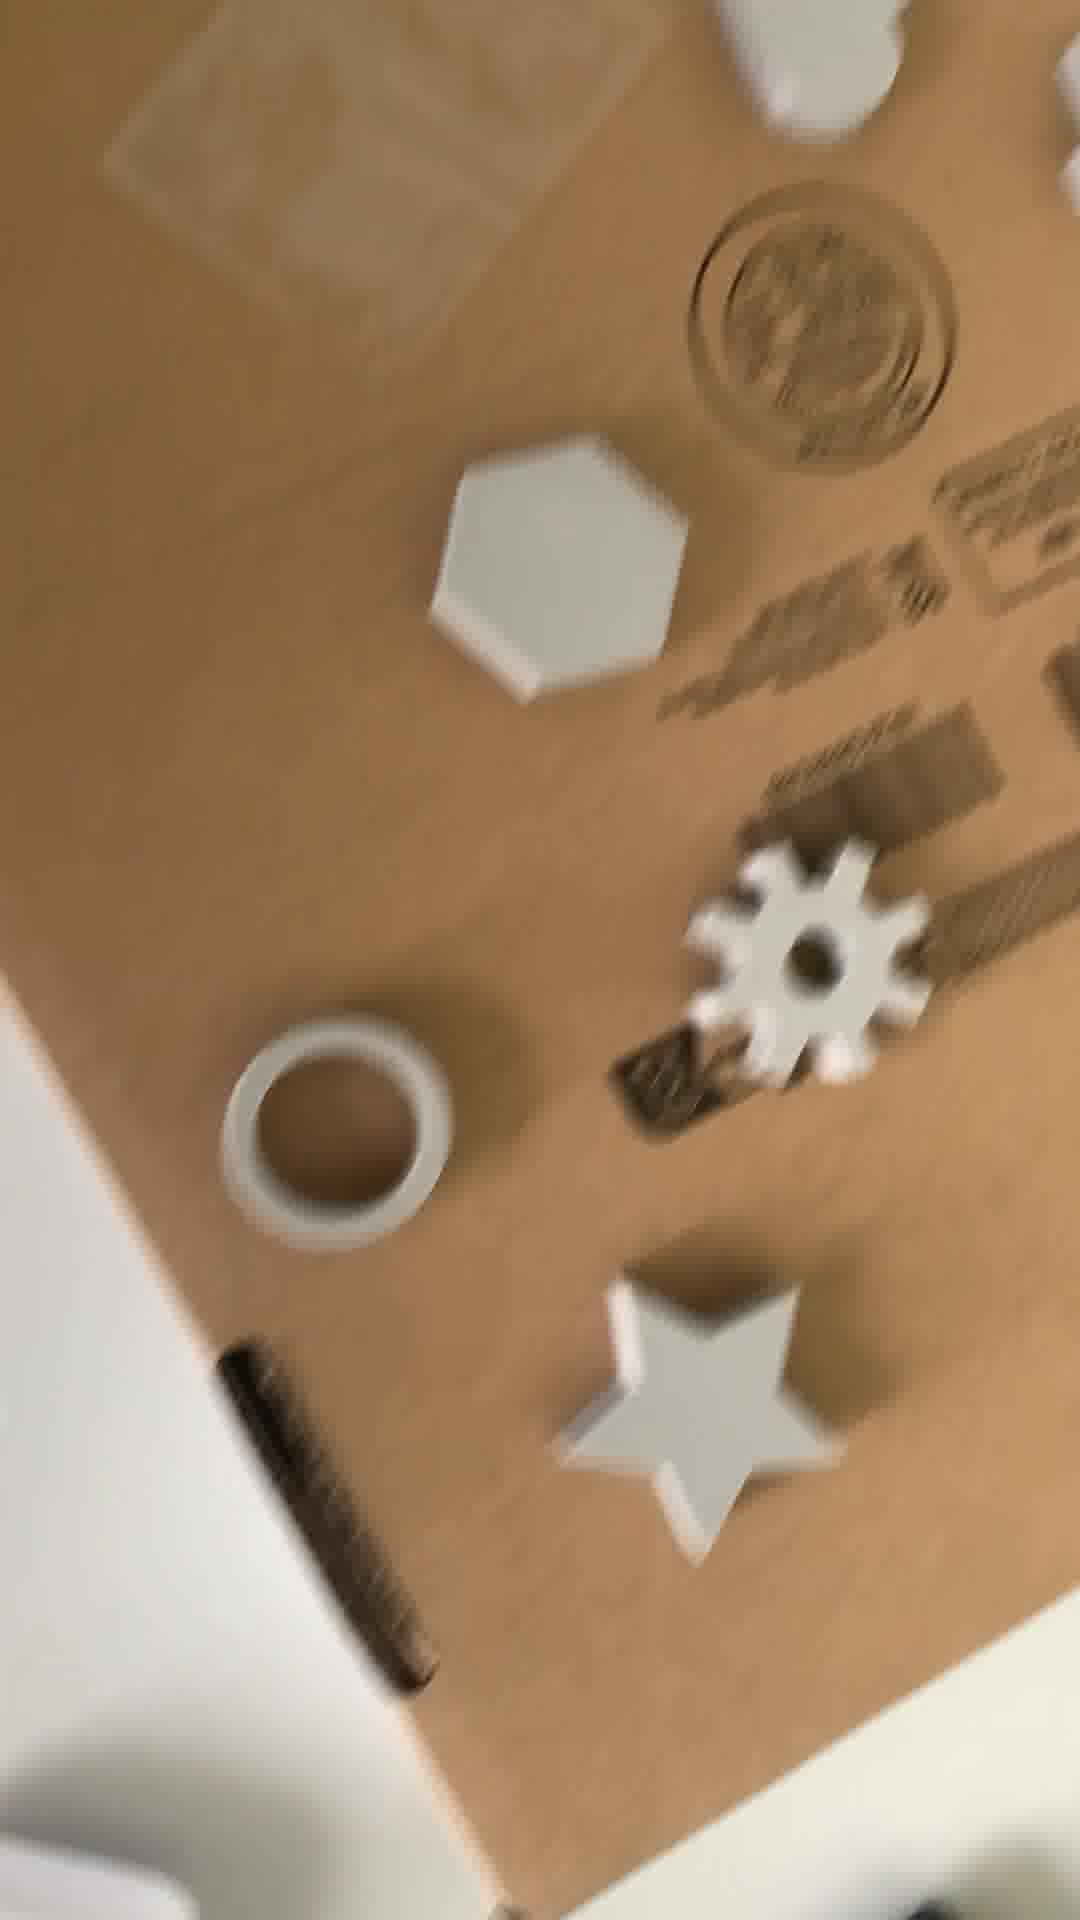Gray hexagon: (410, 400, 709, 713), (671, 843, 951, 1108)
Gray ring: (206, 1025, 467, 1265)
Gray star: (541, 1276, 855, 1569)
